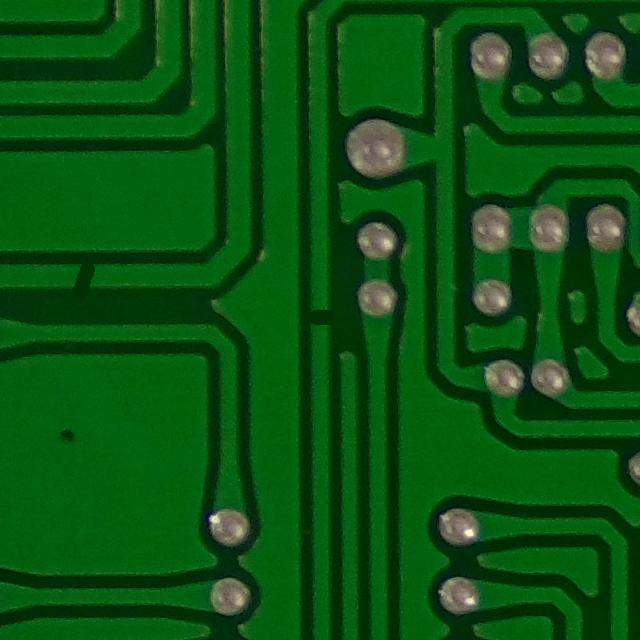open_circuit: (302, 299, 338, 342)
